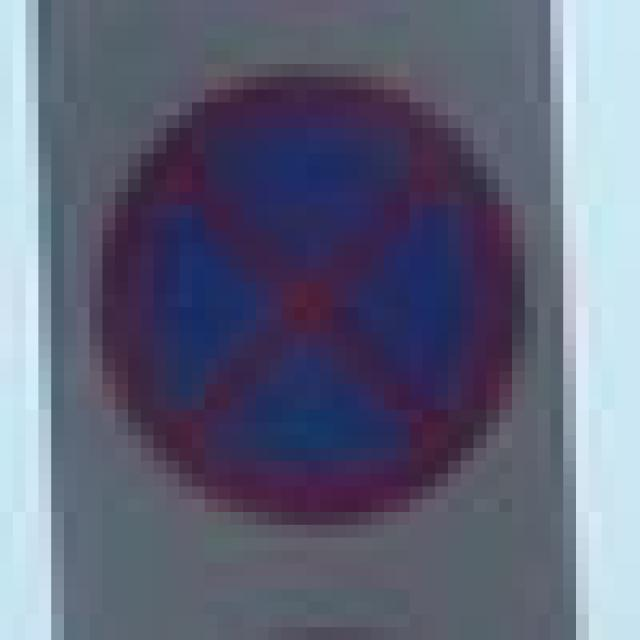NO_STOPPING_OR_STANDING: (90, 64, 512, 512)
